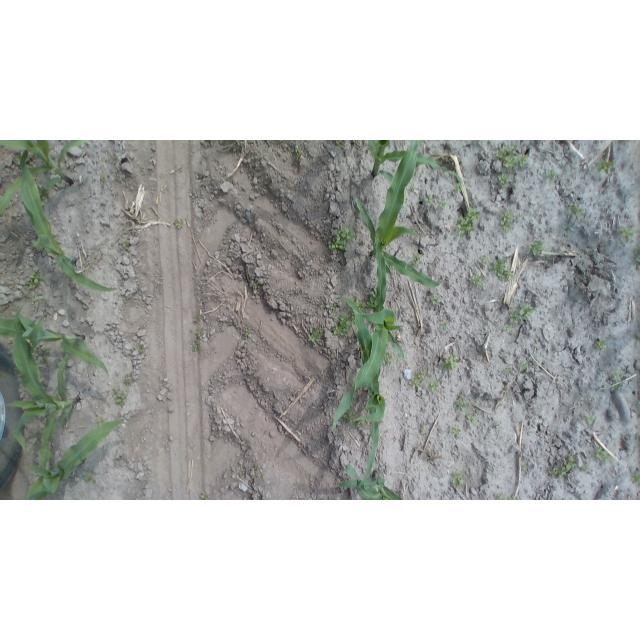Maize: (8, 149, 122, 294), (354, 141, 444, 300), (6, 311, 82, 474), (337, 295, 393, 490), (331, 293, 398, 431), (22, 418, 126, 500), (1, 301, 112, 376), (0, 141, 92, 220), (364, 141, 464, 192), (339, 465, 404, 500)
Weeds: (494, 142, 526, 170), (505, 302, 536, 327), (456, 207, 481, 237), (548, 453, 579, 477), (329, 226, 354, 252), (333, 313, 354, 338), (489, 259, 514, 280), (499, 209, 518, 232), (619, 224, 636, 245), (307, 325, 326, 343), (442, 353, 461, 371), (453, 393, 470, 413), (112, 387, 128, 408), (28, 271, 45, 290), (529, 239, 546, 258), (597, 158, 616, 175), (409, 371, 426, 389), (451, 470, 466, 490), (570, 202, 583, 222), (546, 169, 561, 185), (82, 471, 98, 486), (595, 446, 609, 463), (613, 370, 623, 393), (36, 347, 51, 362), (497, 173, 512, 187), (367, 289, 377, 309), (430, 293, 444, 307), (469, 274, 484, 287), (466, 413, 479, 428), (427, 380, 441, 393), (410, 252, 423, 266), (595, 338, 608, 351), (450, 424, 463, 437), (520, 358, 532, 372), (137, 341, 148, 356), (424, 193, 435, 207), (294, 146, 303, 163), (385, 350, 395, 365), (191, 342, 202, 355), (478, 256, 489, 269), (175, 217, 186, 229), (191, 313, 203, 324), (343, 411, 355, 422), (124, 374, 135, 386), (355, 298, 365, 311), (251, 463, 262, 474), (585, 414, 596, 425), (123, 241, 134, 252), (331, 302, 342, 313), (195, 328, 205, 340), (252, 280, 262, 292), (630, 472, 639, 485), (335, 141, 348, 150), (451, 183, 461, 194), (243, 329, 253, 340), (440, 198, 449, 210), (198, 491, 210, 500), (438, 322, 449, 331), (355, 420, 366, 429), (496, 492, 508, 500), (99, 173, 106, 186), (97, 418, 107, 427), (521, 463, 531, 472), (582, 463, 591, 473), (420, 426, 429, 435), (494, 422, 503, 431), (501, 325, 511, 333), (504, 366, 512, 374), (410, 184, 418, 192), (477, 140, 488, 145), (217, 377, 225, 383)
